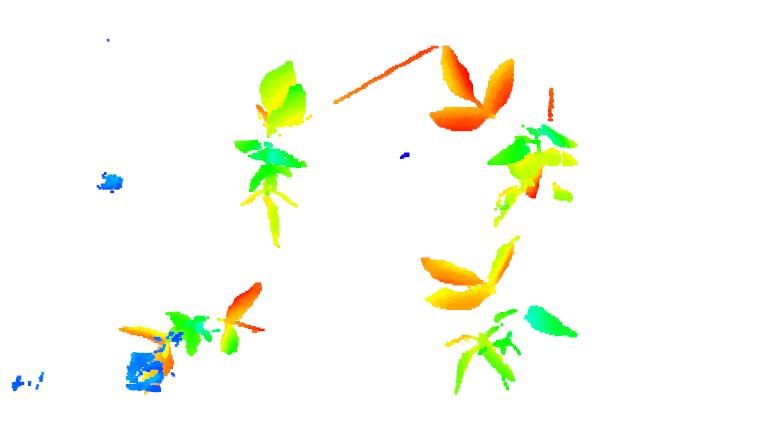mungbean: (434, 41, 577, 225), (425, 232, 578, 397), (118, 282, 271, 393), (235, 55, 313, 250)
